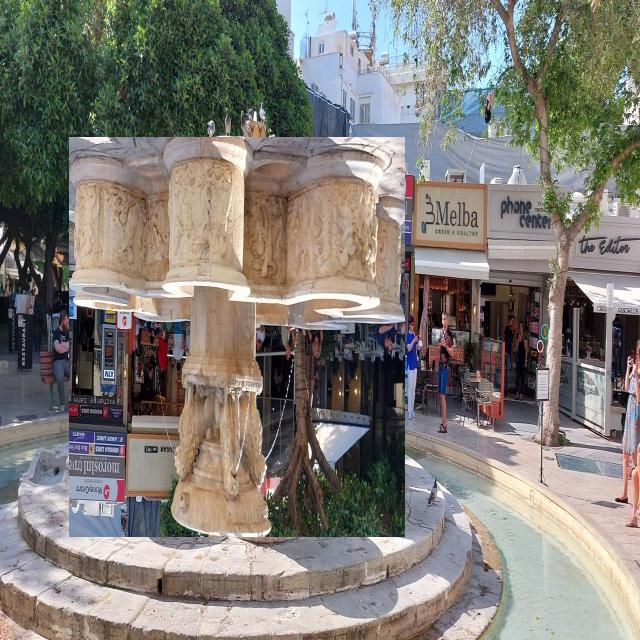Liontaria: (70, 138, 406, 538)
